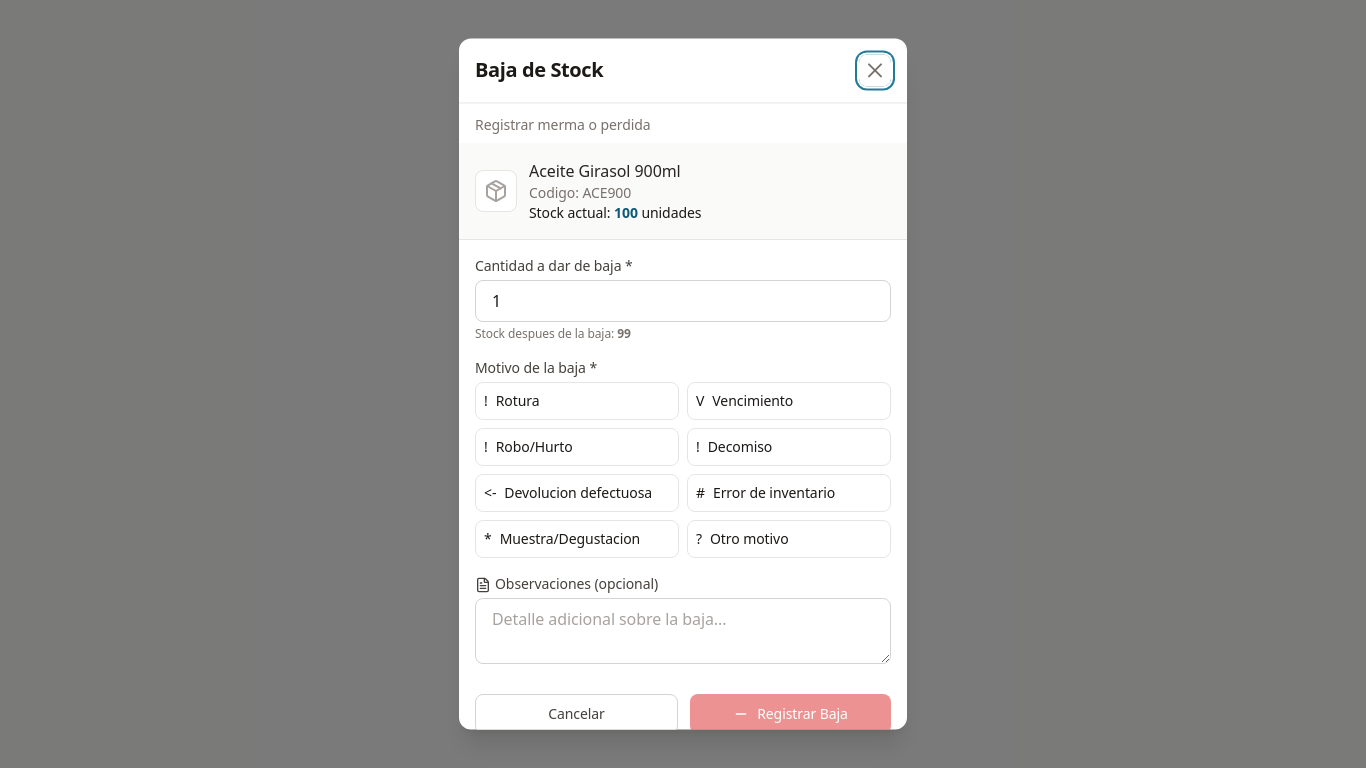
Test: ModalMermaStock — validación › muestra el mensaje del servidor cuando el guardado falla y no cierra
The width and height of the screenshot is (1366, 768).
Click the button "V Vencimiento": (789, 401) left=687, top=382, right=891, bottom=420
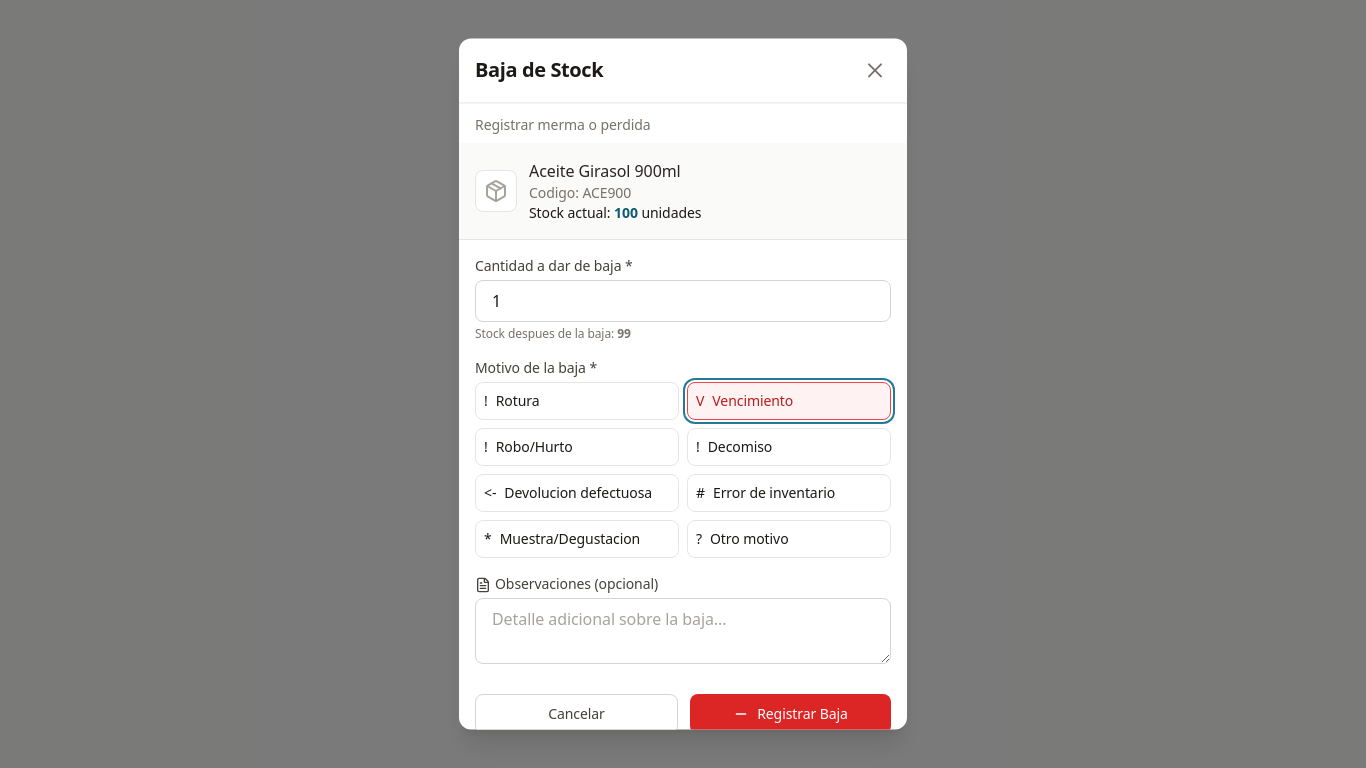
Click the button "Registrar Baja": (790, 714) left=690, top=694, right=891, bottom=734
(page scrolled)
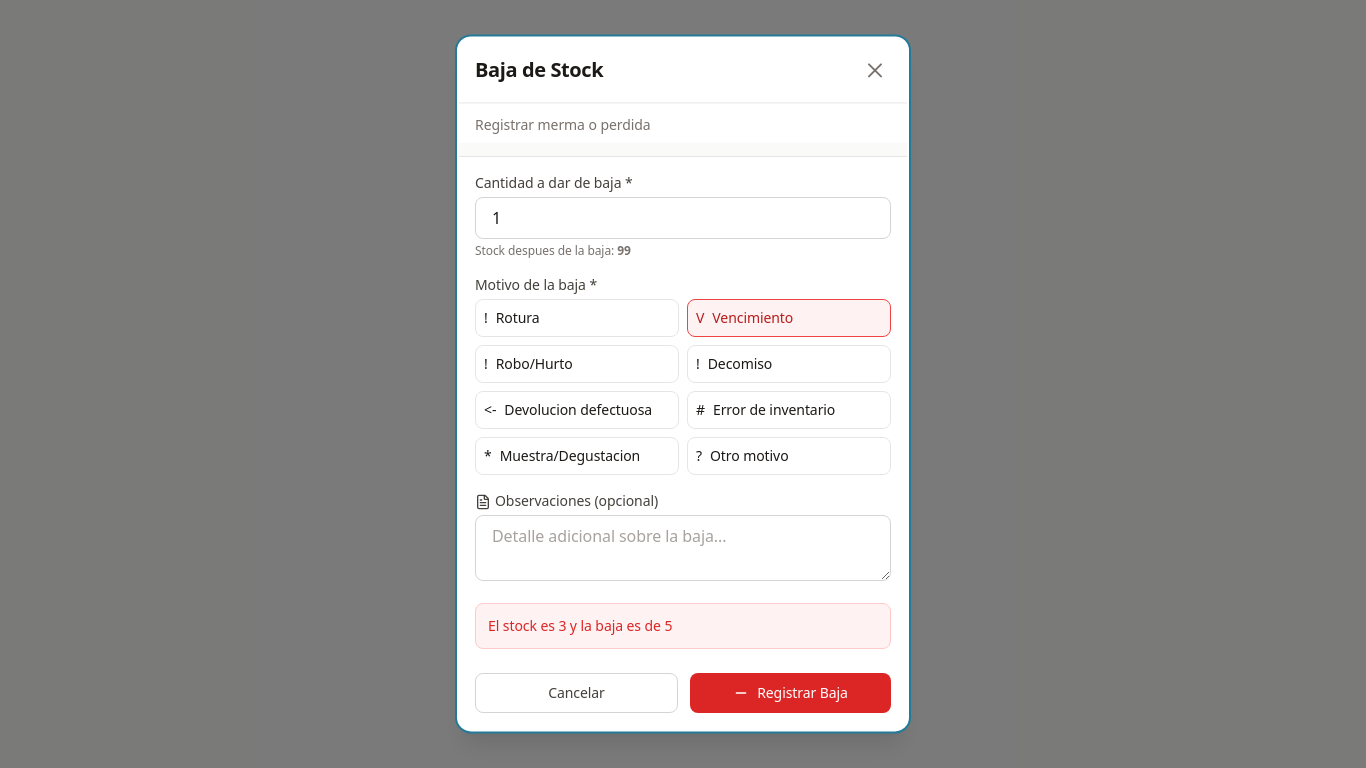
Now the button "Registrar Baja" is enabled, box left=690, top=673, right=891, bottom=713
Now the text "El stock es 3 y la baja es de 5" is shown, box left=488, top=616, right=672, bottom=635
